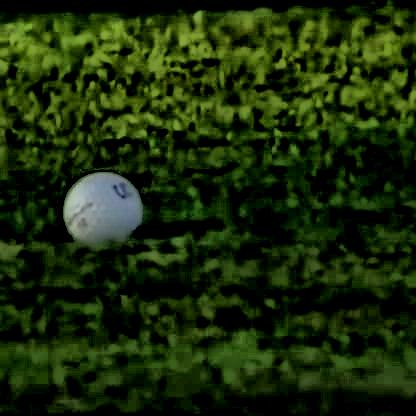golfball: (57, 169, 140, 249)
